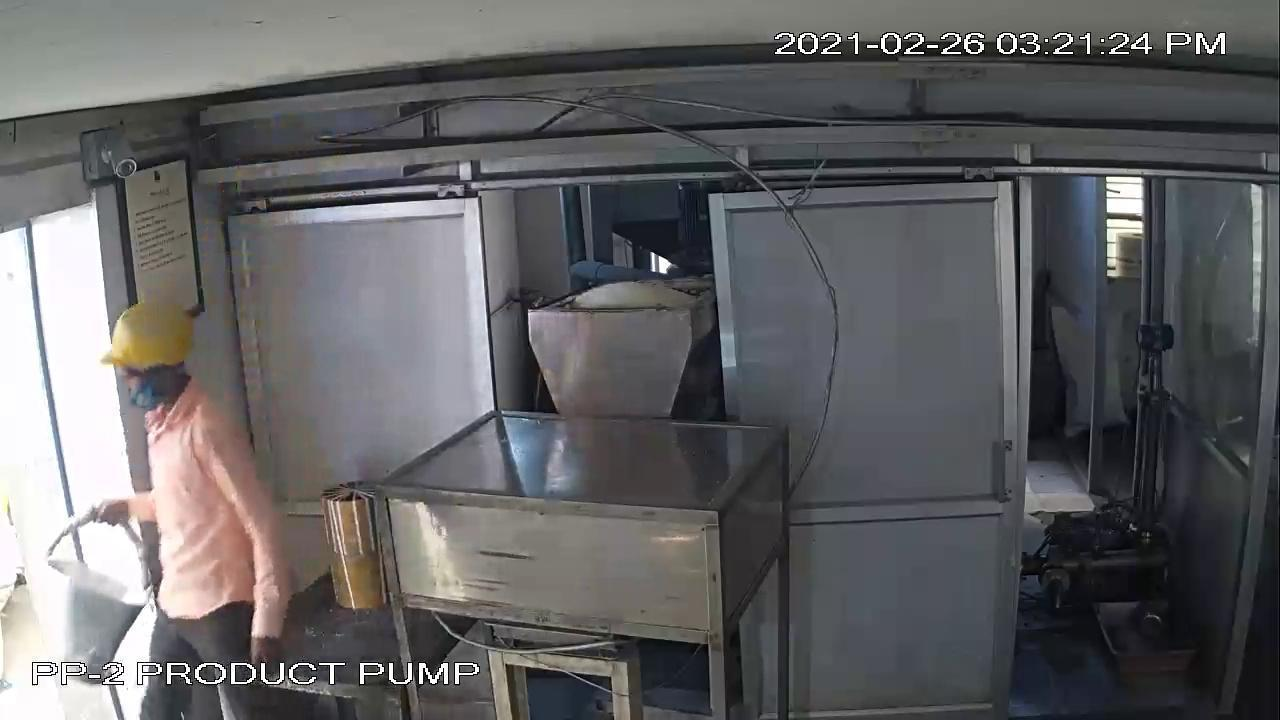helmet: (100, 271, 202, 419)
